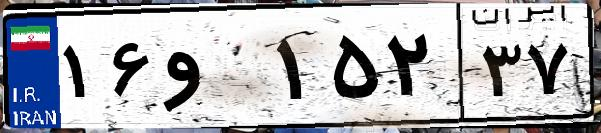1: (270, 28, 330, 110), (57, 26, 110, 100)
2: (385, 28, 445, 110)
3: (475, 38, 525, 113)
5: (330, 28, 385, 110)
6: (110, 28, 158, 98)
7: (525, 38, 570, 115)
و: (158, 20, 270, 120)
